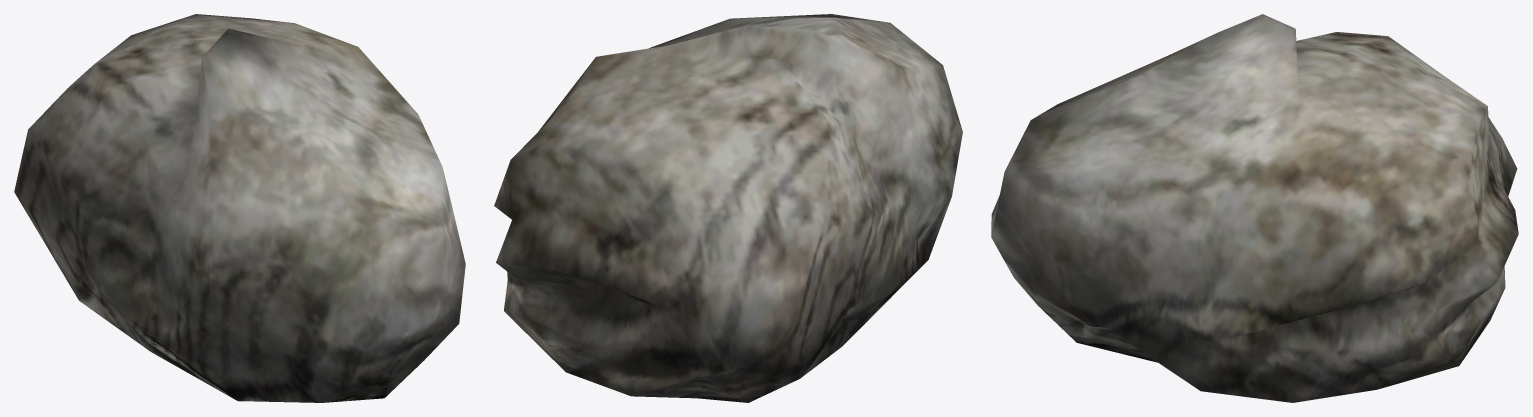
The model's file is note_internet_notice_crumbled.dae.
3 views of the same model, side by side, from view 1: azimuth 30°, elevation 25°; view 2: azimuth 150°, elevation 25°; view 3: azimuth 270°, elevation 25° (orthographic). The views are drawn at different scales.
Visible parts, largest first — view 1: note_internet_notice_crumbled; view 2: note_internet_notice_crumbled; view 3: note_internet_notice_crumbled.
Part boxes in pixels (x1,y1,x2,y2): note_internet_notice_crumbled: (14, 14, 465, 402); note_internet_notice_crumbled: (494, 14, 962, 402); note_internet_notice_crumbled: (991, 14, 1518, 402).
Size of the model in its own units: 0.0991 by 0.0991 by 0.1443.
